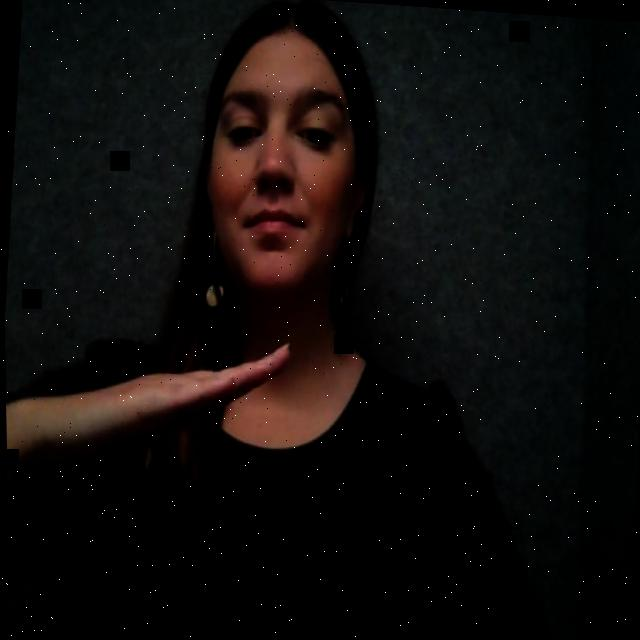Paper: (49, 318, 310, 492)
